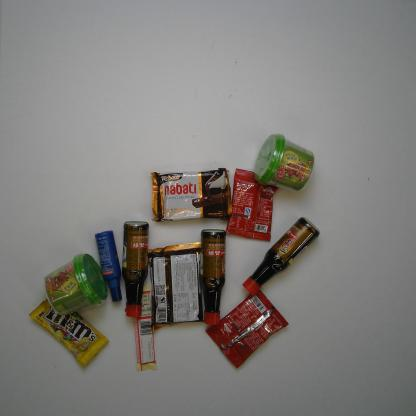Chocolate: (28, 298, 110, 368), (130, 284, 160, 372)
Dessert: (143, 238, 211, 327), (146, 164, 236, 228)
Instant Drink: (203, 289, 291, 368), (38, 250, 111, 320), (222, 165, 284, 243), (252, 131, 322, 193)
Personal Hygiene: (90, 228, 127, 303)
Seasoner: (240, 214, 320, 304), (120, 219, 153, 320), (196, 226, 226, 328)
